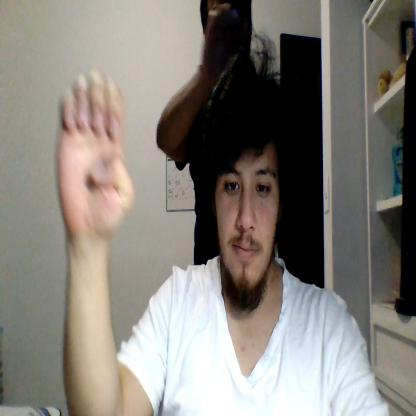E: (56, 69, 134, 240)
